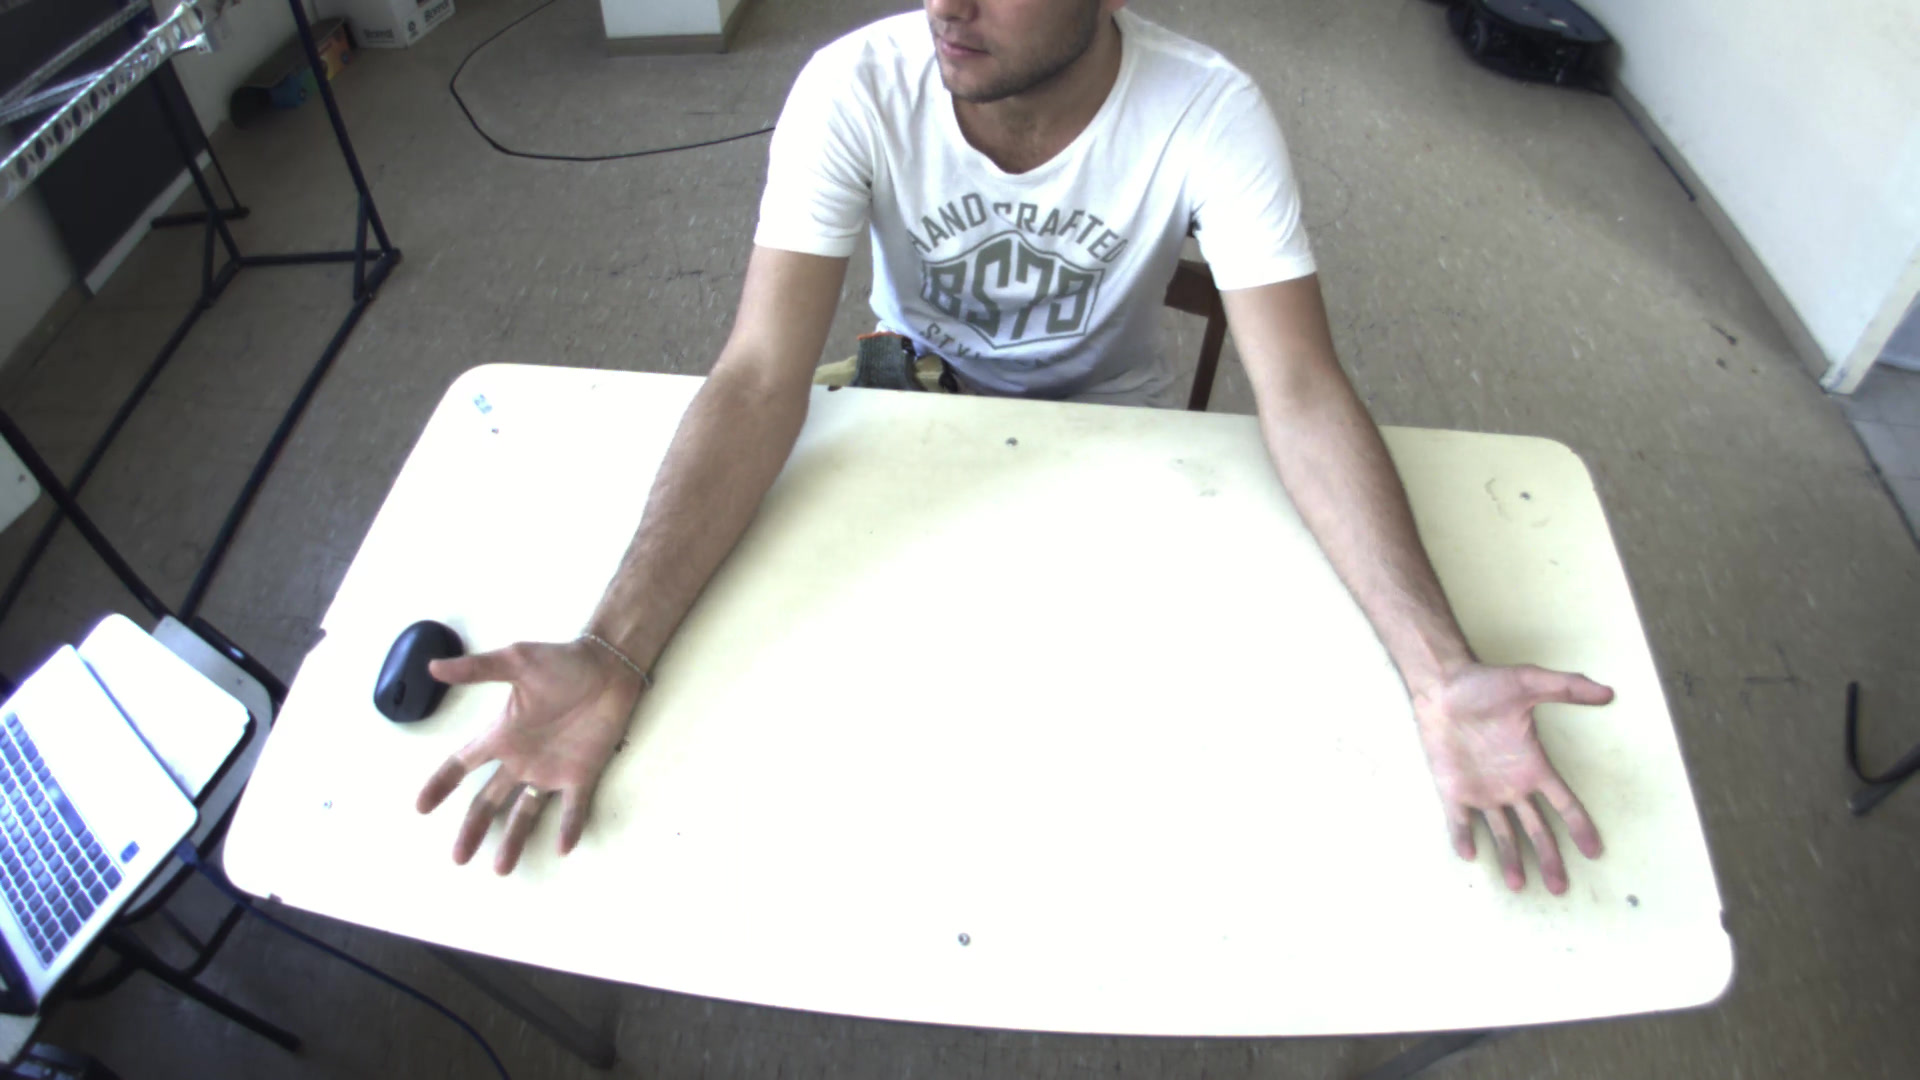hand: (388, 622, 654, 890), (1398, 638, 1634, 911)
